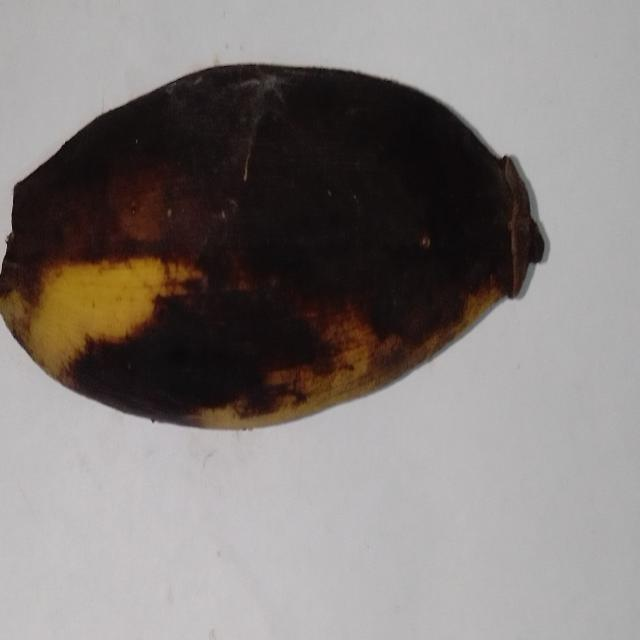banana: (0, 66, 543, 427)
